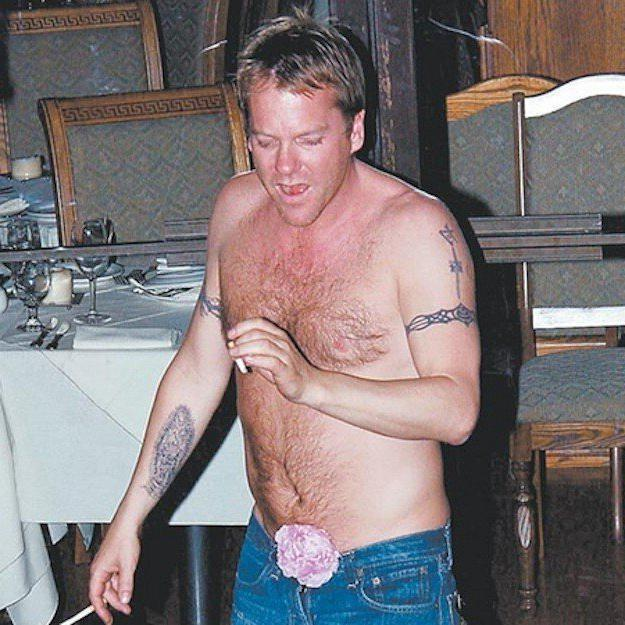Drunk: (249, 85, 347, 224)
